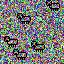sheep: (3, 35, 19, 47), (30, 40, 46, 52), (17, 12, 31, 25), (13, 49, 27, 61), (46, 0, 61, 11)
